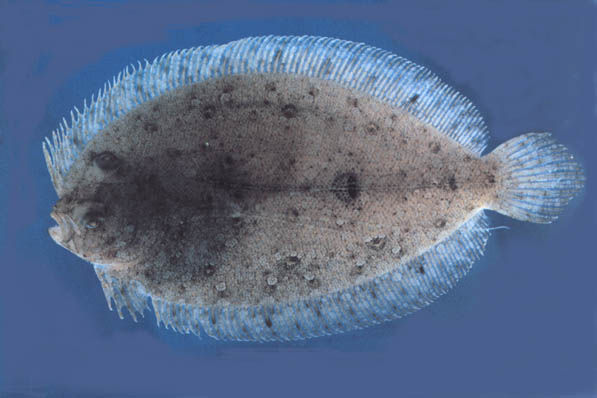fish: (42, 34, 585, 343)
